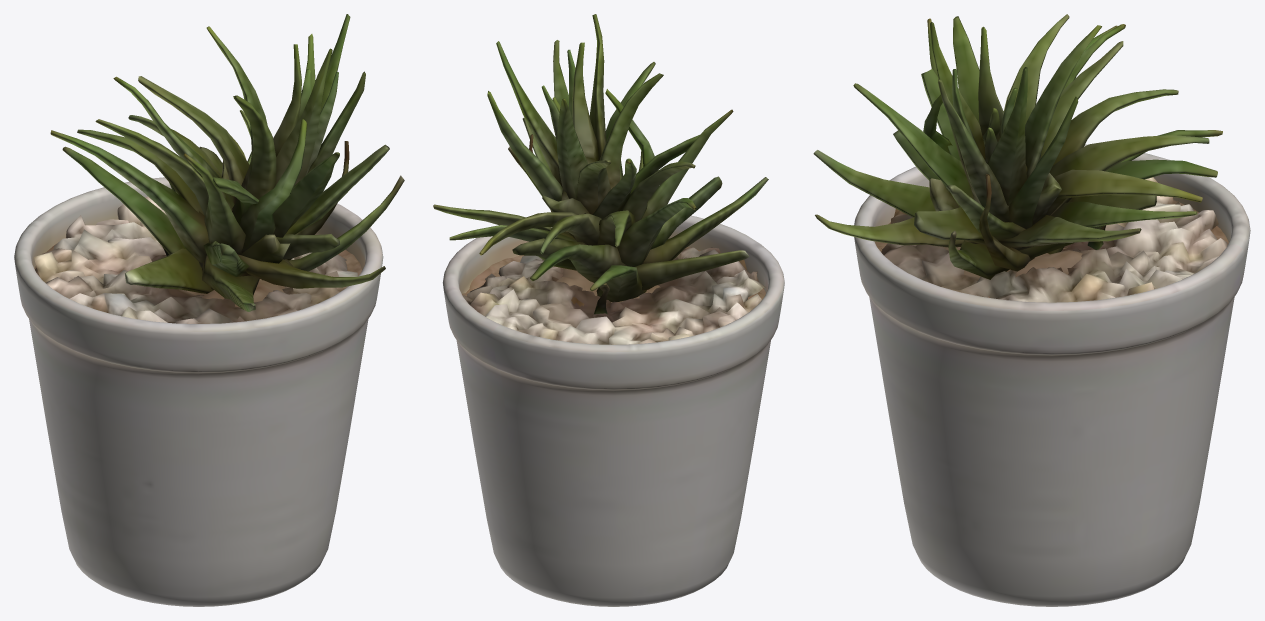
File: plant.phone.glb
3 renders of one model, left to right at view 1: azimuth 30°, elevation 25°; view 2: azimuth 150°, elevation 25°; view 3: azimuth 270°, elevation 25°, orthographic. The views are drawn at different scales.
Visible parts, largest first — view 1: potted_plant_04_ground; view 2: potted_plant_04_ground; view 3: potted_plant_04_ground.
Boxes of the visible parts, x1,y1,x2,y2 form: potted_plant_04_ground: (14,14,404,606); potted_plant_04_ground: (433,14,784,606); potted_plant_04_ground: (813,14,1250,606).
Size of the model in its own units: 0.1679 by 0.2675 by 0.1847.
Materials: 1 (1 with a texture image).
